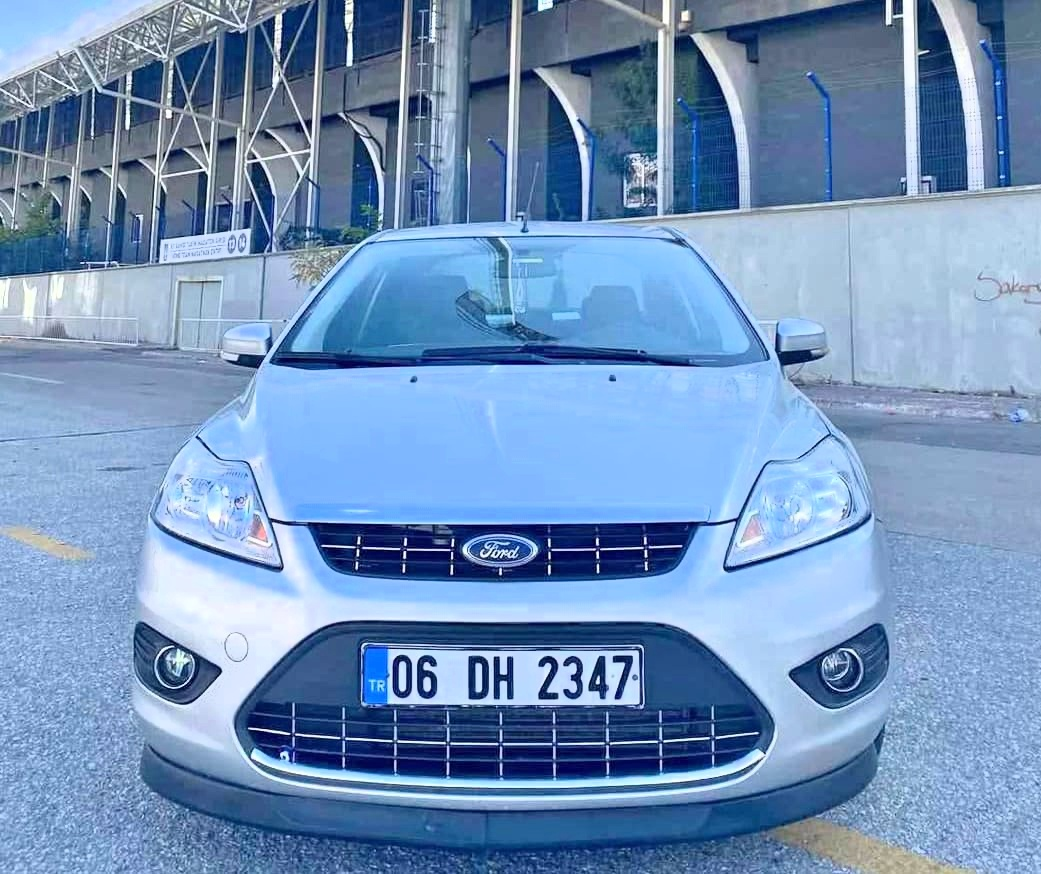plaka: (382, 633, 638, 715)
